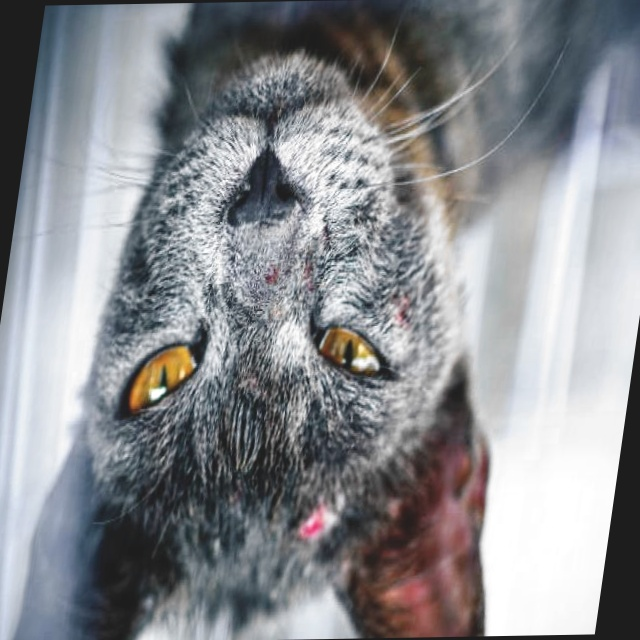ringworm: (259, 259, 317, 292), (294, 510, 329, 536), (390, 293, 409, 327)
